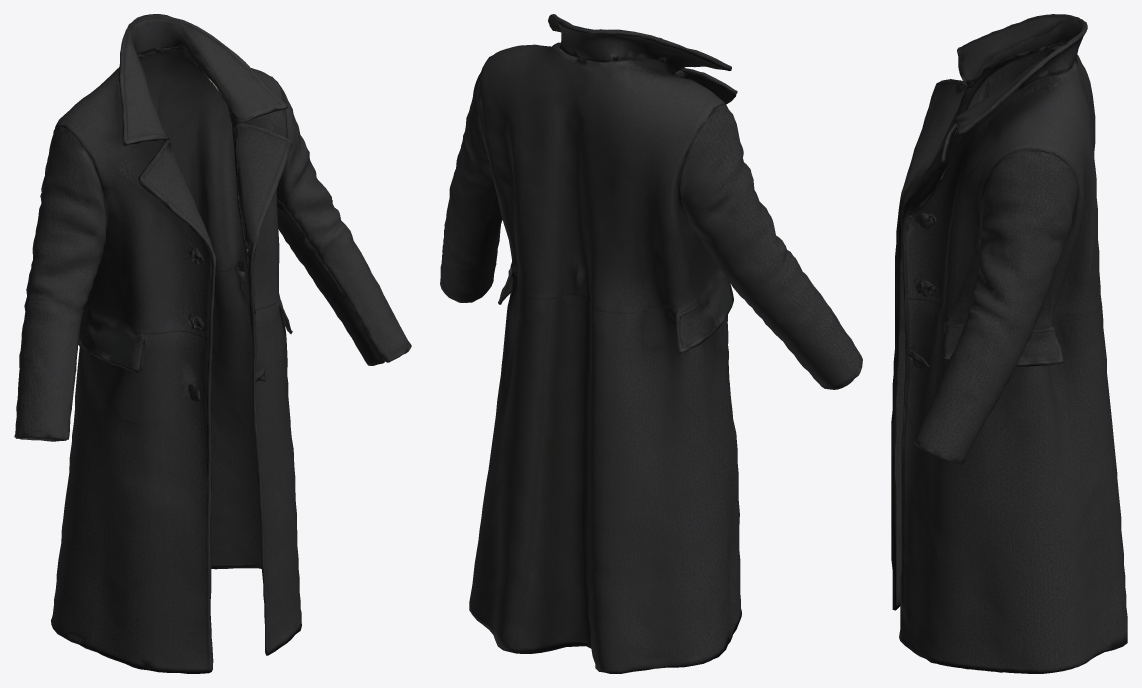
3 renders of one model, left to right at view 1: azimuth 30°, elevation 25°; view 2: azimuth 150°, elevation 25°; view 3: azimuth 270°, elevation 25°, orthographic. The views are drawn at different scales.
Visible parts, largest first — view 1: tripo_node_3c89ec7b-c406-4d2e-a57b-a673a813f412_0; view 2: tripo_node_3c89ec7b-c406-4d2e-a57b-a673a813f412_0; view 3: tripo_node_3c89ec7b-c406-4d2e-a57b-a673a813f412_0.
Part boxes in pixels (box(x1,y1,x2,y2)): tripo_node_3c89ec7b-c406-4d2e-a57b-a673a813f412_0: box(14, 14, 411, 673); tripo_node_3c89ec7b-c406-4d2e-a57b-a673a813f412_0: box(440, 14, 862, 673); tripo_node_3c89ec7b-c406-4d2e-a57b-a673a813f412_0: box(891, 14, 1127, 673).
Size of the model in its own units: 0.6986 by 1 by 0.3581.
Materials: 1 (1 with a texture image).
